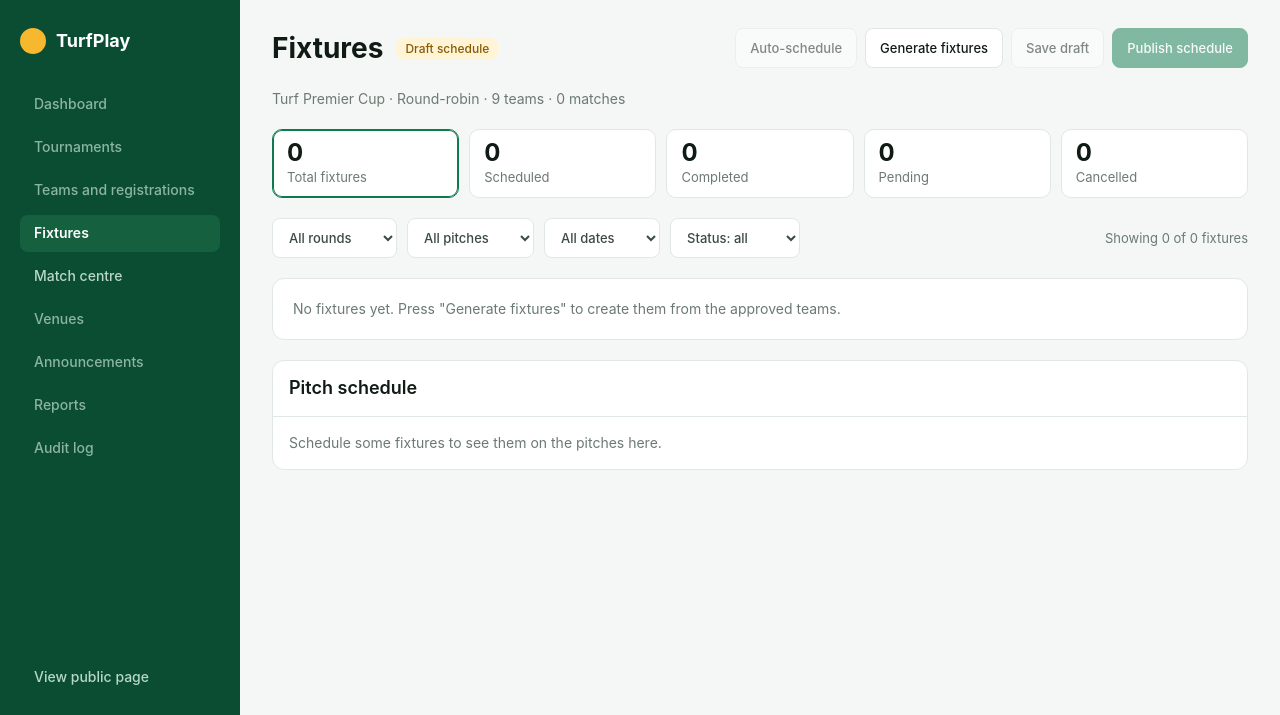
Fixture Manager: scheduling and conflicts › auto-schedules every pending fixture without a single conflict
Click the button "Generate fixtures" at (934, 48), box top-left (865, 28), bottom-right (1003, 68)
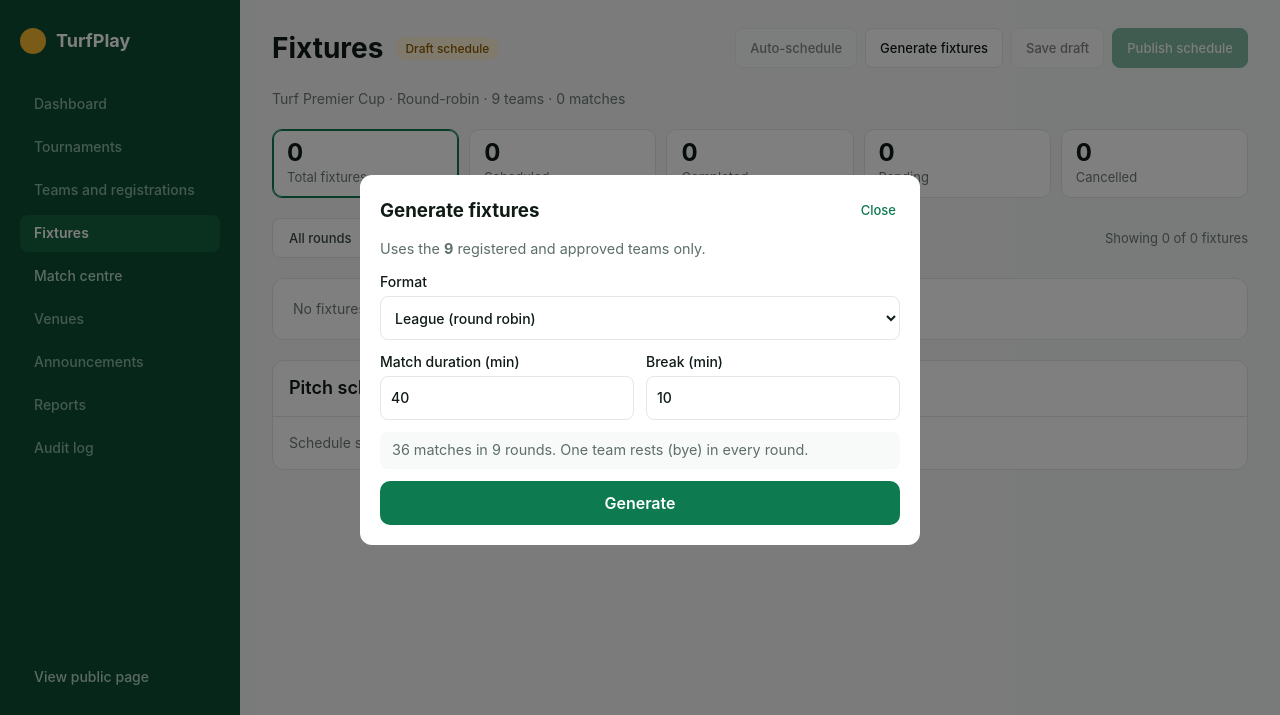
Click the button "Generate" at (640, 503), box top-left (380, 481), bottom-right (900, 525)
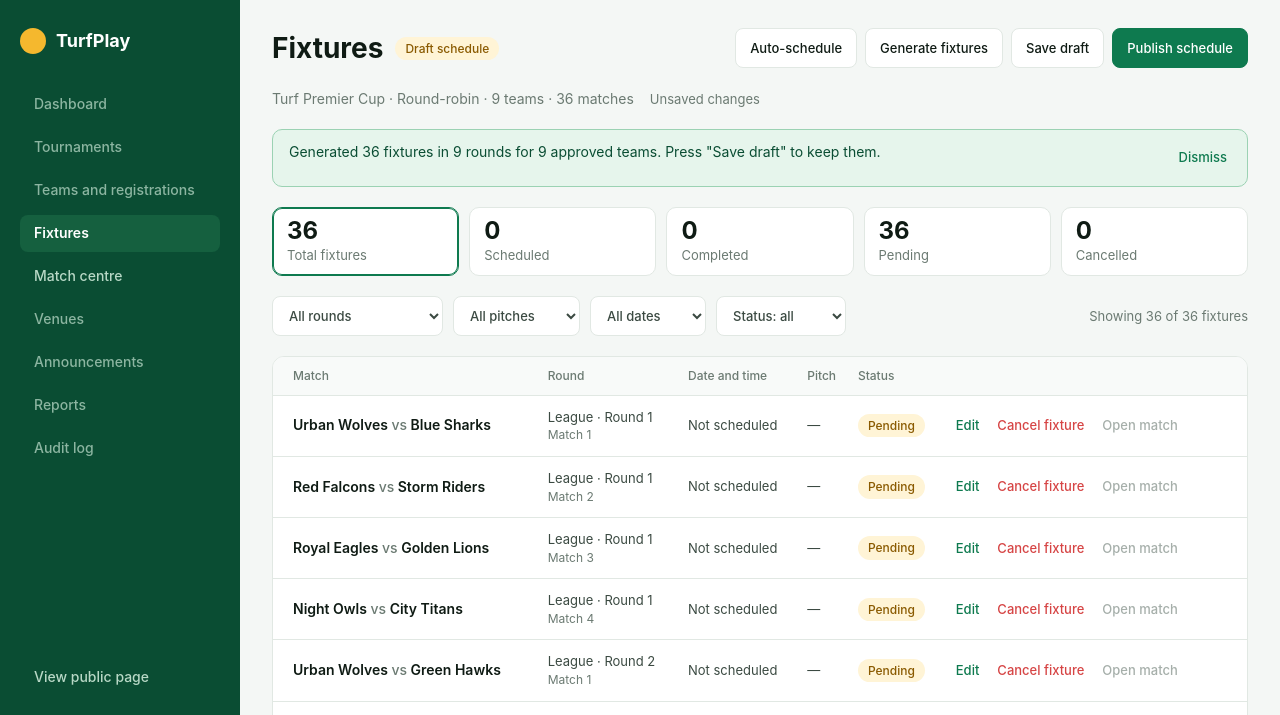
Click the button "Auto-schedule" at (796, 48), box top-left (735, 28), bottom-right (857, 68)
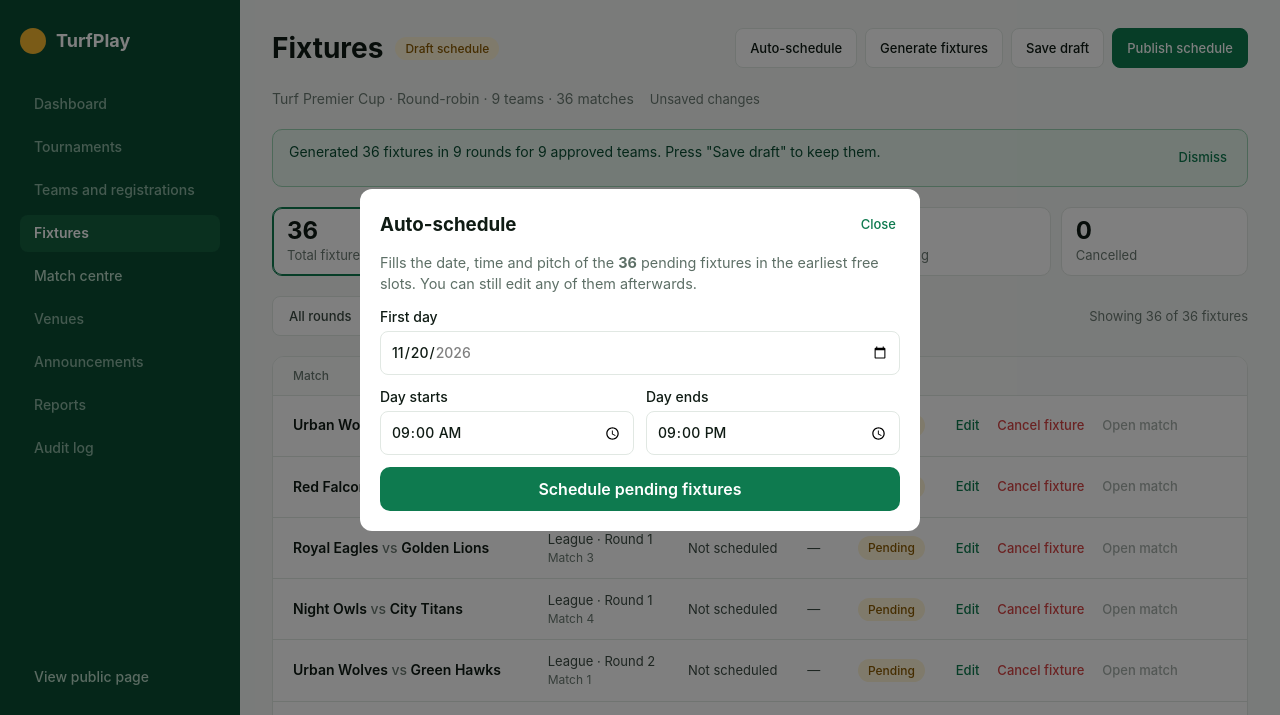
Click the button "Schedule pending fixtures" at (640, 489), box top-left (380, 467), bottom-right (900, 511)
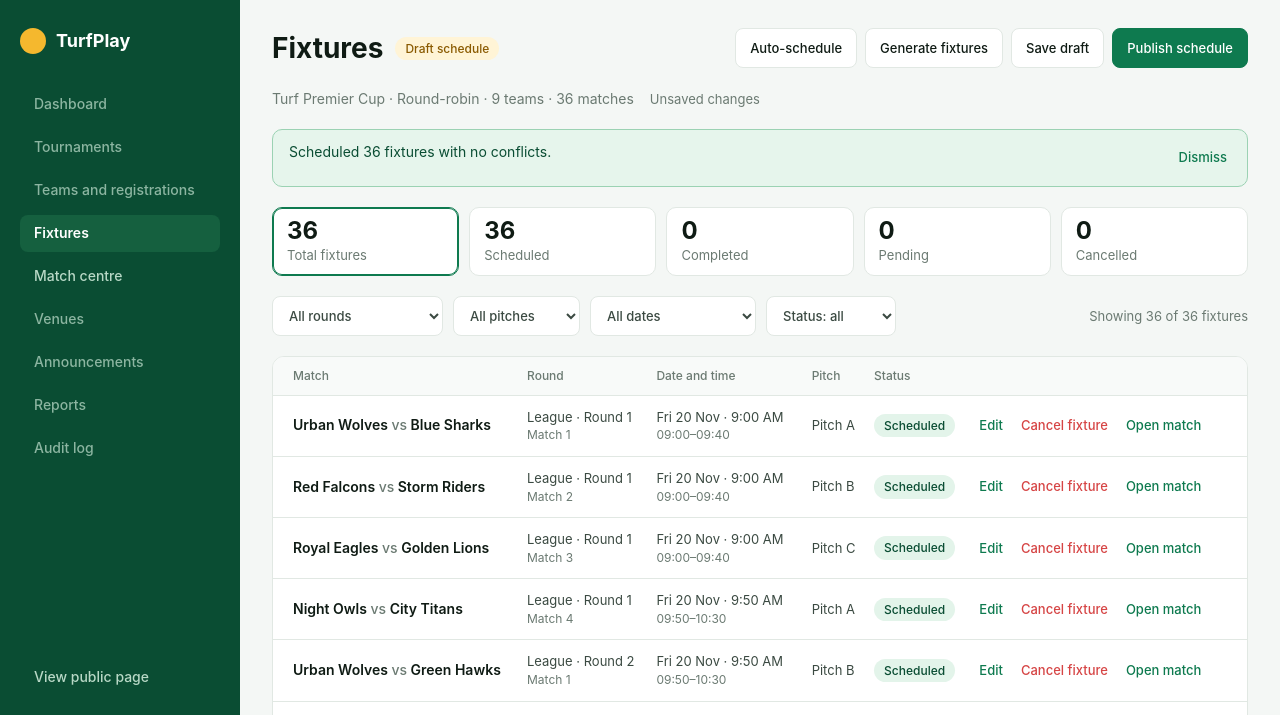
Expected: the text "Scheduled 36 fixtures with no conflicts" is shown, top-left (289, 143), bottom-right (551, 160)
